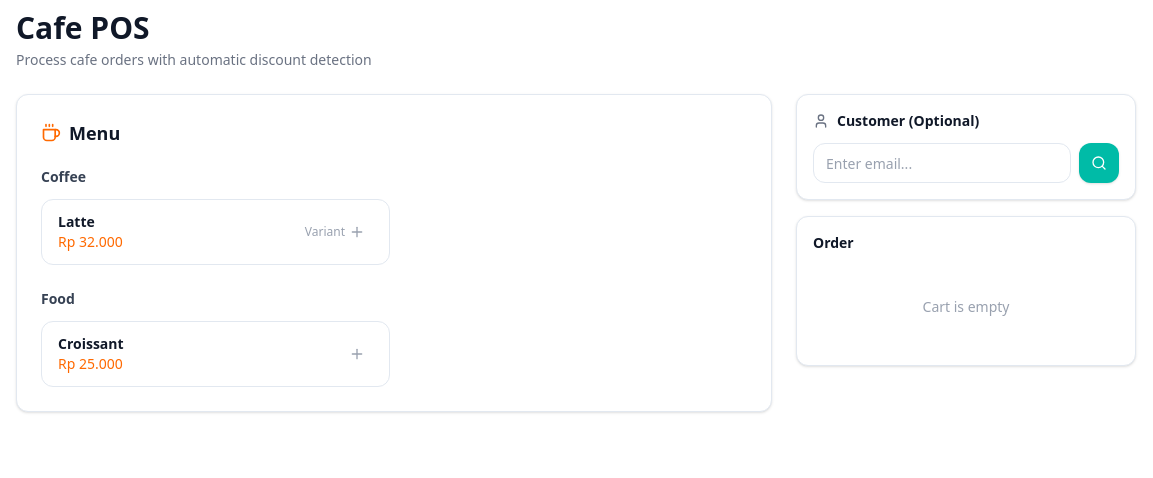
Test: PosClient (AC-101) › I-047: shows the active-booking facility and end time in the member-found panel (ORIG pos:224-227)
Type "gold@x.test" into the field with placeholder "Enter email..." at [942, 163], box [813, 143, 1071, 183]
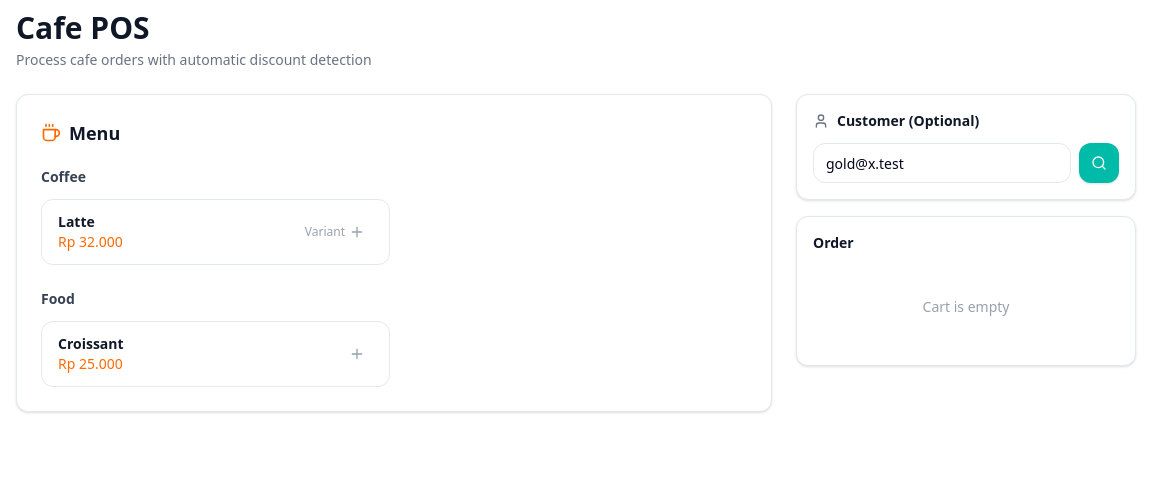
Click the button named "search customer" at [1099, 163], box [1079, 143, 1119, 183]
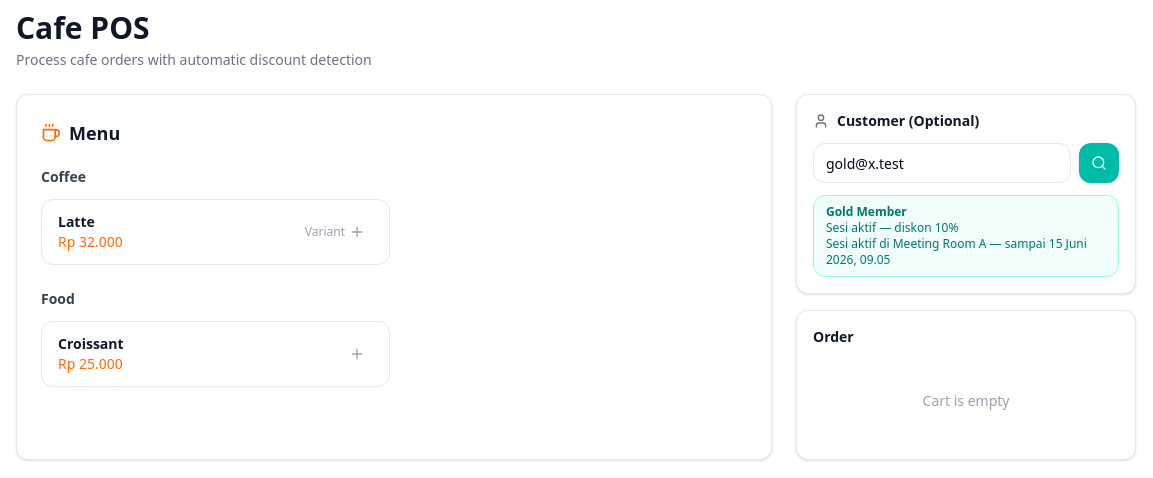
Result: the text "Sesi aktif di Meeting Room A" is shown at [826, 236, 1106, 268]
Result: the text "sampai" is shown at [826, 235, 1087, 268]
